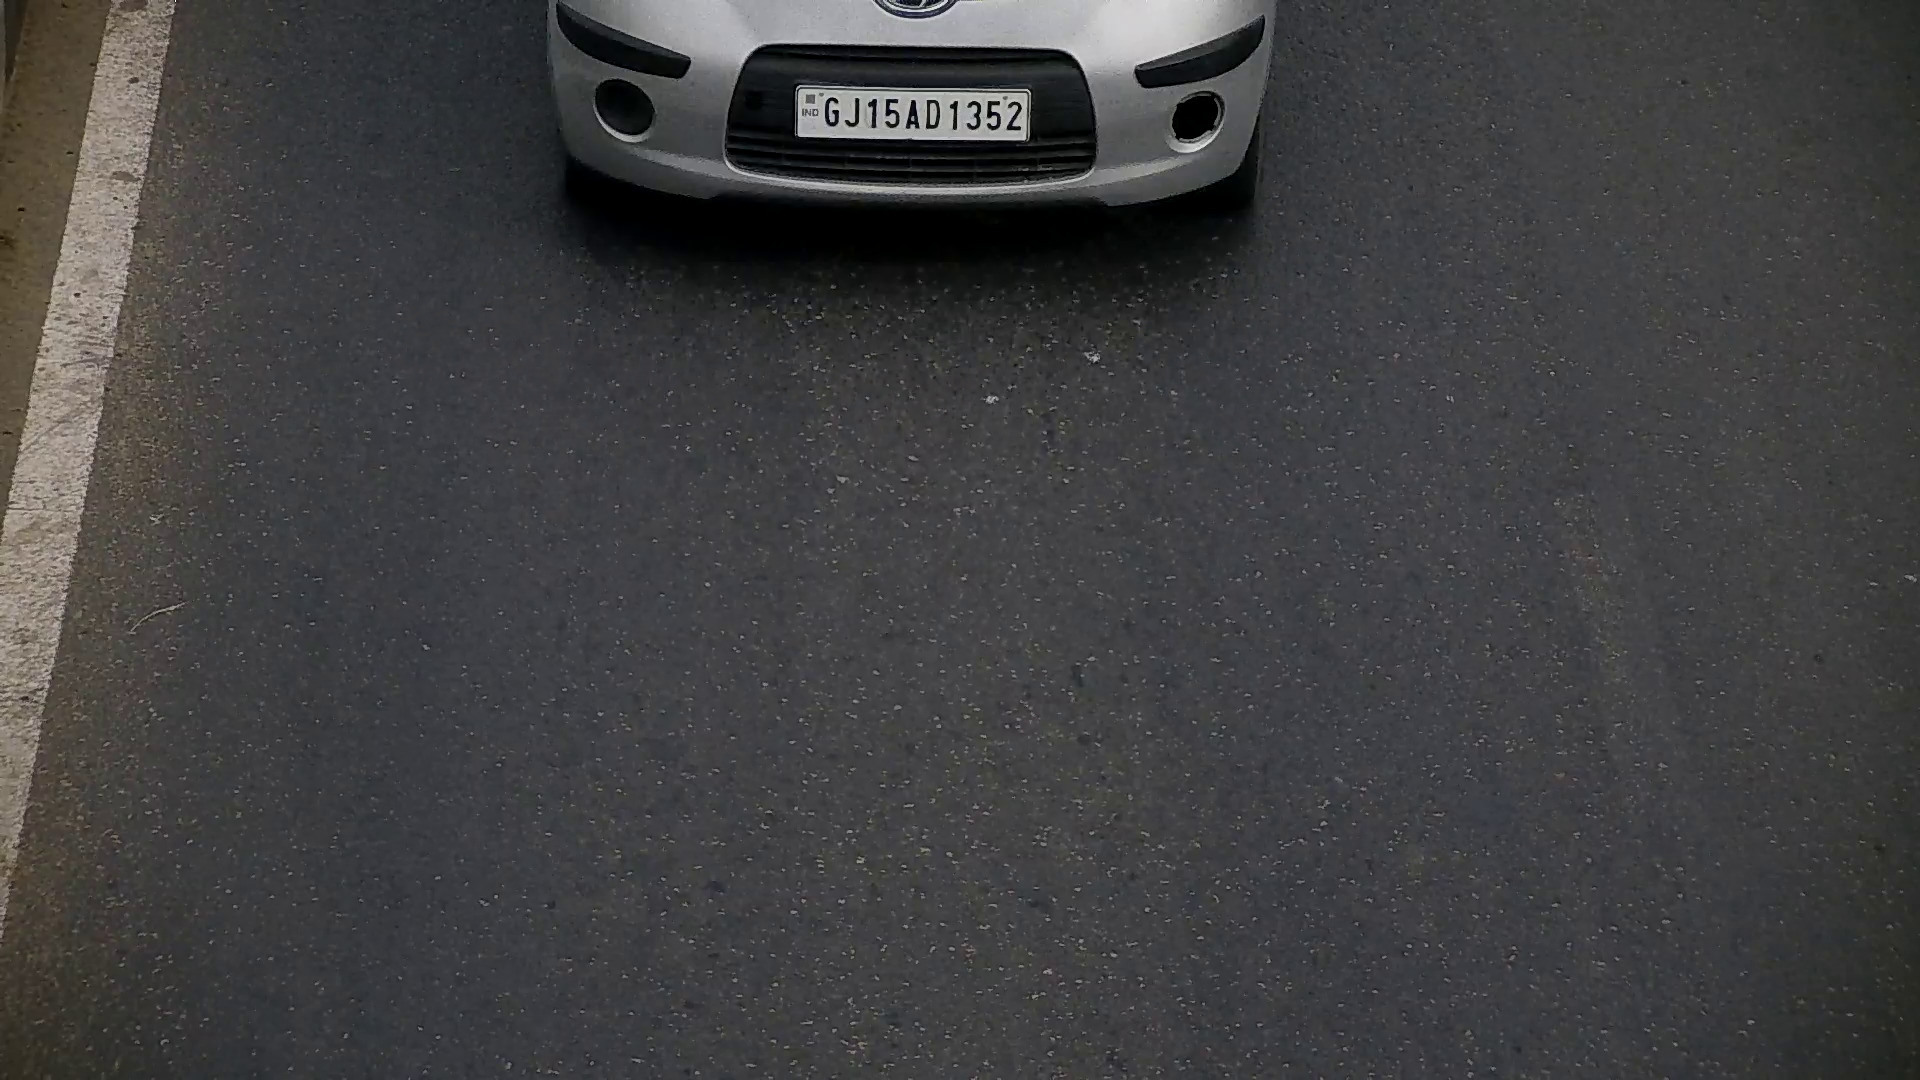numberplate: (795, 80, 1030, 150)
